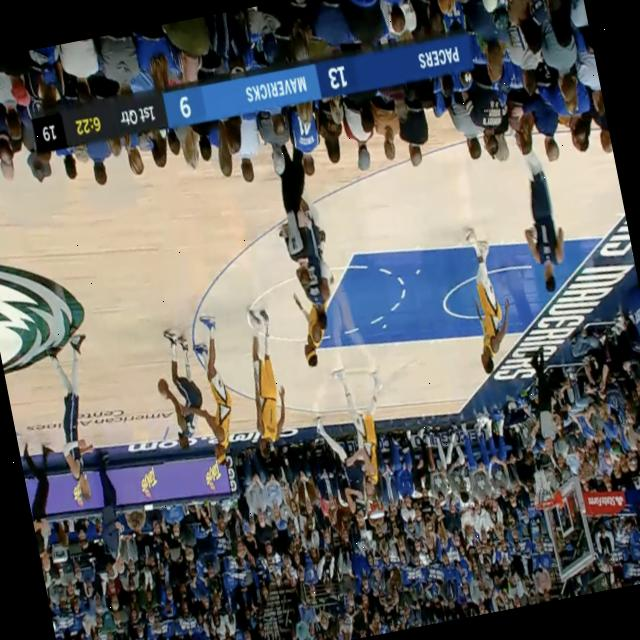no foul: (266, 209, 362, 378), (152, 318, 248, 484), (311, 376, 402, 535)
